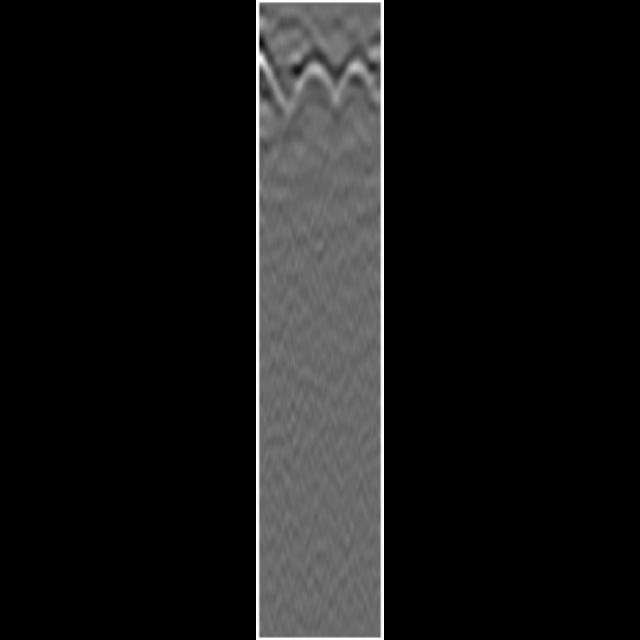hyperbola: (294, 60, 342, 104), (334, 57, 376, 101)
